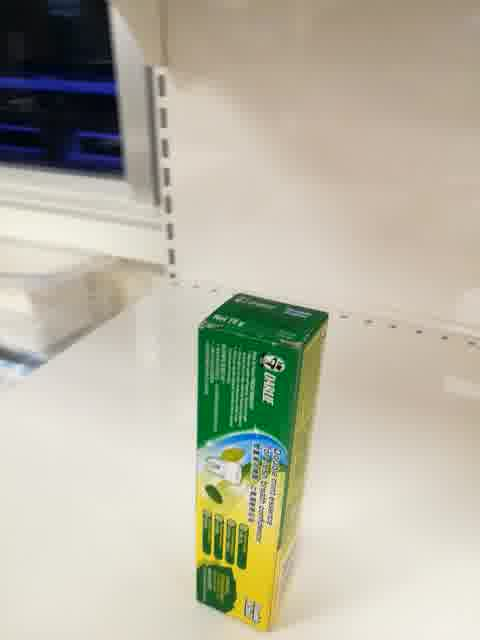toothpaste: (197, 292, 330, 635)
